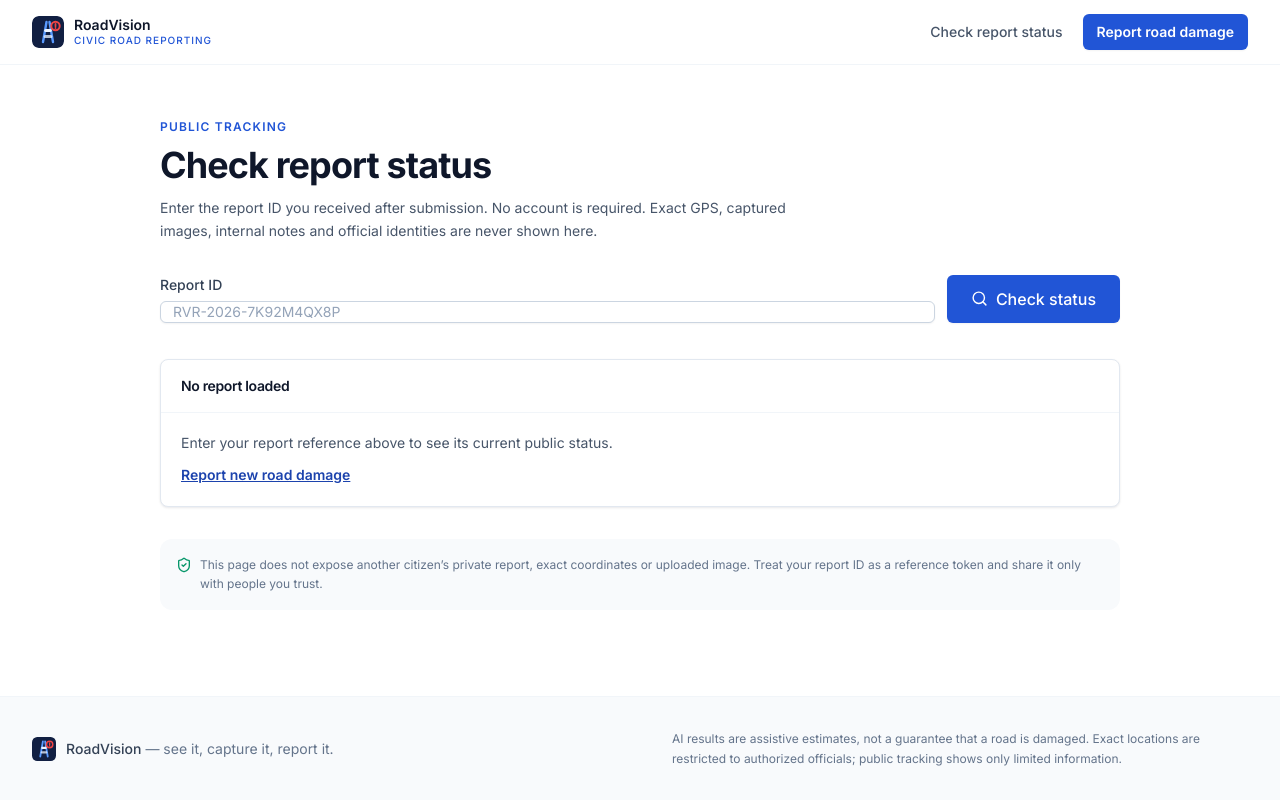
Scenario: TrackPage › shows only the limited public timeline for a valid unguessable report ID
Type "rvr-2026-abcdefghjk" into the field labelled "Report ID". click: (547, 312)
box: [160,300,935,322]
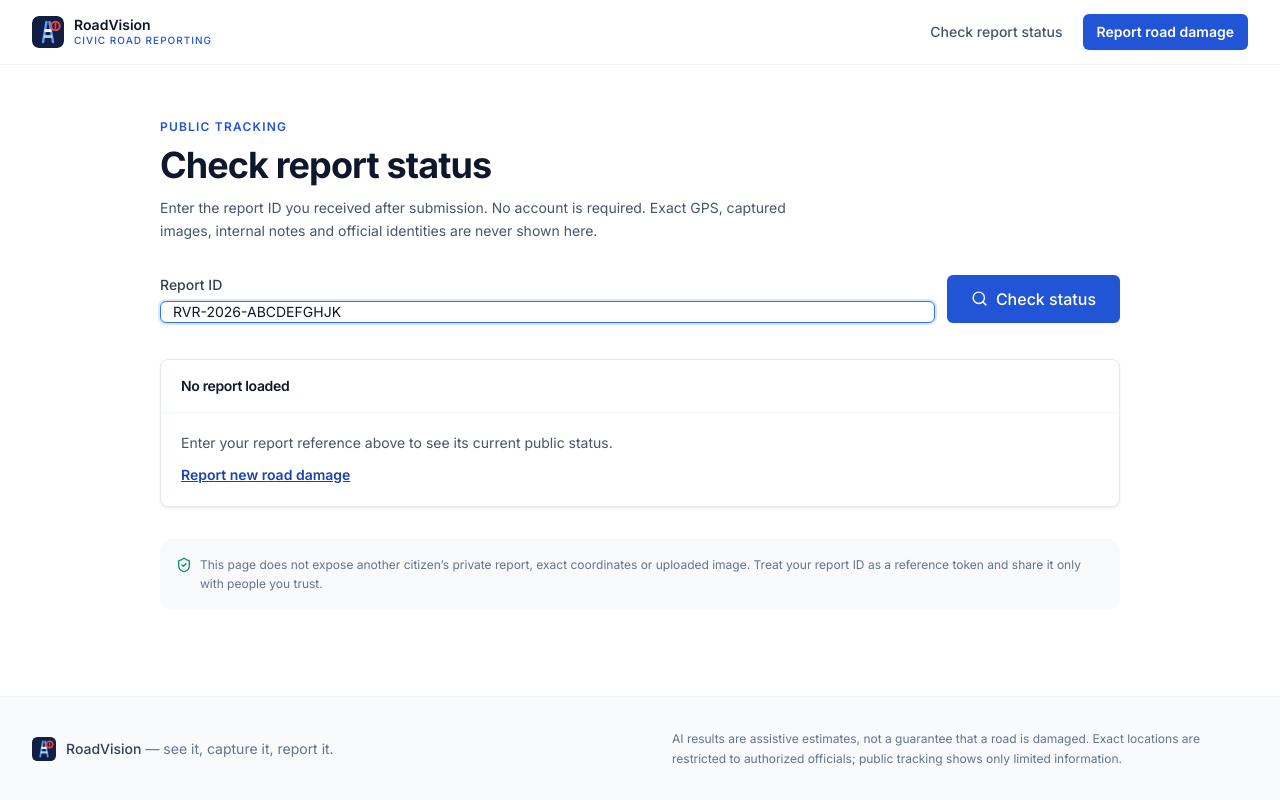
Click the button "Check status". click: (1033, 298)
box: [947,274,1120,322]
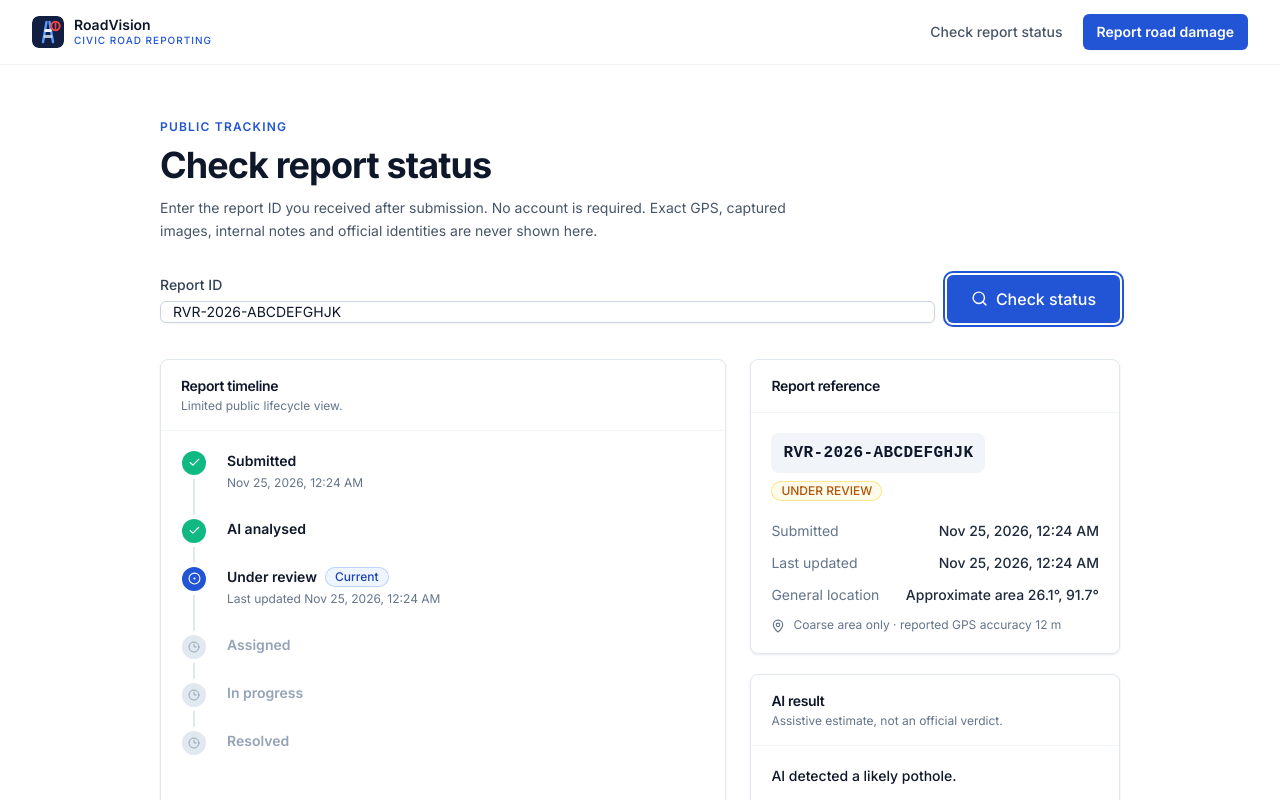
Now the heading "Report timeline" is shown, box [181,376,278,394]
Now the text "Under review" is shown, box [227,566,317,586]
Now the text "Approximate area 26.1°, 91.7°" is shown, box [906,584,1099,604]
